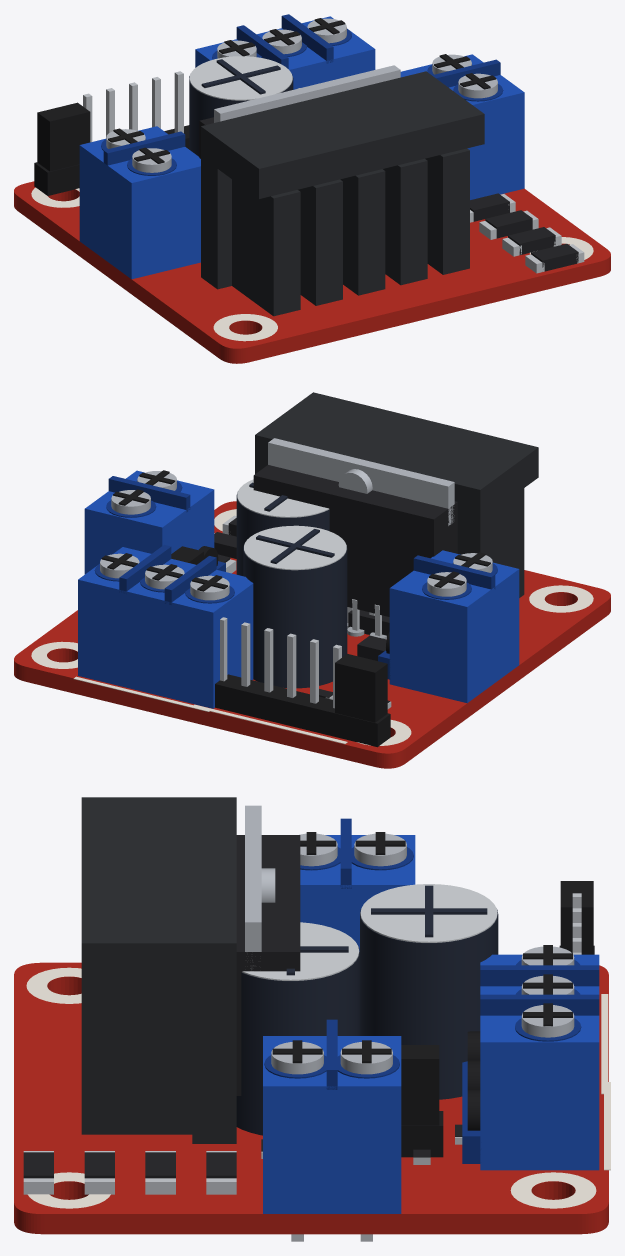
The picture shows the model from 3 angles, top to bottom: view 1: azimuth 30°, elevation 25°; view 2: azimuth 150°, elevation 25°; view 3: azimuth 270°, elevation 25°; orthographic projection. The views are drawn at different scales.
Parts seen in each view (by area): view 1: pcb_board, heatsink_top_rail, terminal_OUT1_body, heatsink_fin_1, heatsink_plate, terminal_OUT2_body, heatsink_fin_3, heatsink_fin_4, heatsink_fin_2, heatsink_fin_5, terminal_power_12V_GND_5V, terminal_power_12V_GND_5V_body (+13 smaller); view 2: pcb_board, terminal_power_12V_GND_5V_body, terminal_OUT1_body, heatsink_top_rail, ic_L298N_body, capacitor_C1_220uF_35V_sleeve, heatsink_plate, terminal_OUT2_body, ic_metal_tab, terminal_power_12V_GND_5V, header_body, jumper_ENA_shunt (+19 smaller); view 3: pcb_board, heatsink_top_rail, terminal_OUT2_body, terminal_power_12V_GND_5V_body, heatsink_fin_5, heatsink_plate, capacitor_C1_220uF_35V_sleeve, terminal_power_12V_GND_5V, capacitor_C2_220uF_35V_sleeve, ic_L298N_body, capacitor_C1_220uF_35V_top, terminal_OUT1_body (+18 smaller).
Part boxes in pixels (x1=…): pcb_board: x1=14, y1=181, x2=610, y2=363; heatsink_top_rail: x1=201, y1=71, x2=484, y2=198; terminal_OUT1_body: x1=79, y1=126, x2=200, y2=279; heatsink_fin_1: x1=232, y1=179, x2=300, y2=316; heatsink_plate: x1=201, y1=72, x2=442, y2=289; terminal_OUT2_body: x1=400, y1=54, x2=524, y2=199; heatsink_fin_3: x1=340, y1=169, x2=385, y2=295; heatsink_fin_4: x1=383, y1=158, x2=427, y2=285; heatsink_fin_2: x1=298, y1=179, x2=342, y2=305; heatsink_fin_5: x1=425, y1=148, x2=469, y2=274; terminal_power_12V_GND_5V: x1=212, y1=14, x2=351, y2=68; terminal_power_12V_GND_5V_body: x1=195, y1=16, x2=375, y2=89; pcb_board: x1=14, y1=501, x2=610, y2=768; terminal_power_12V_GND_5V_body: x1=78, y1=547, x2=253, y2=708; terminal_OUT1_body: x1=389, y1=550, x2=519, y2=703; heatsink_top_rail: x1=255, y1=392, x2=538, y2=510; ic_L298N_body: x1=253, y1=465, x2=457, y2=616; capacitor_C1_220uF_35V_sleeve: x1=243, y1=544, x2=347, y2=688; heatsink_plate: x1=255, y1=423, x2=496, y2=563; terminal_OUT2_body: x1=84, y1=470, x2=214, y2=574; ic_metal_tab: x1=268, y1=438, x2=454, y2=525; terminal_power_12V_GND_5V: x1=94, y1=544, x2=234, y2=604; header_body: x1=215, y1=674, x2=342, y2=738; jumper_ENA_shunt: x1=335, y1=654, x2=387, y2=722; pcb_board: x1=14, y1=962, x2=608, y2=1234; heatsink_top_rail: x1=81, y1=797, x2=236, y2=983; terminal_OUT2_body: x1=263, y1=1036, x2=401, y2=1213; terminal_power_12V_GND_5V_body: x1=480, y1=954, x2=599, y2=1170; heatsink_fin_5: x1=81, y1=983, x2=192, y2=1134; heatsink_plate: x1=192, y1=797, x2=236, y2=1143; capacitor_C1_220uF_35V_sleeve: x1=360, y1=909, x2=498, y2=1099; terminal_power_12V_GND_5V: x1=467, y1=945, x2=599, y2=1130; capacitor_C2_220uF_35V_sleeve: x1=236, y1=947, x2=359, y2=1135; ic_L298N_body: x1=236, y1=835, x2=300, y2=1095; capacitor_C1_220uF_35V_top: x1=360, y1=884, x2=497, y2=942; terminal_OUT1_body: x1=300, y1=835, x2=415, y2=951.
Bounding box in the file's own units: 0.043 × 0.0205 × 0.0432.
